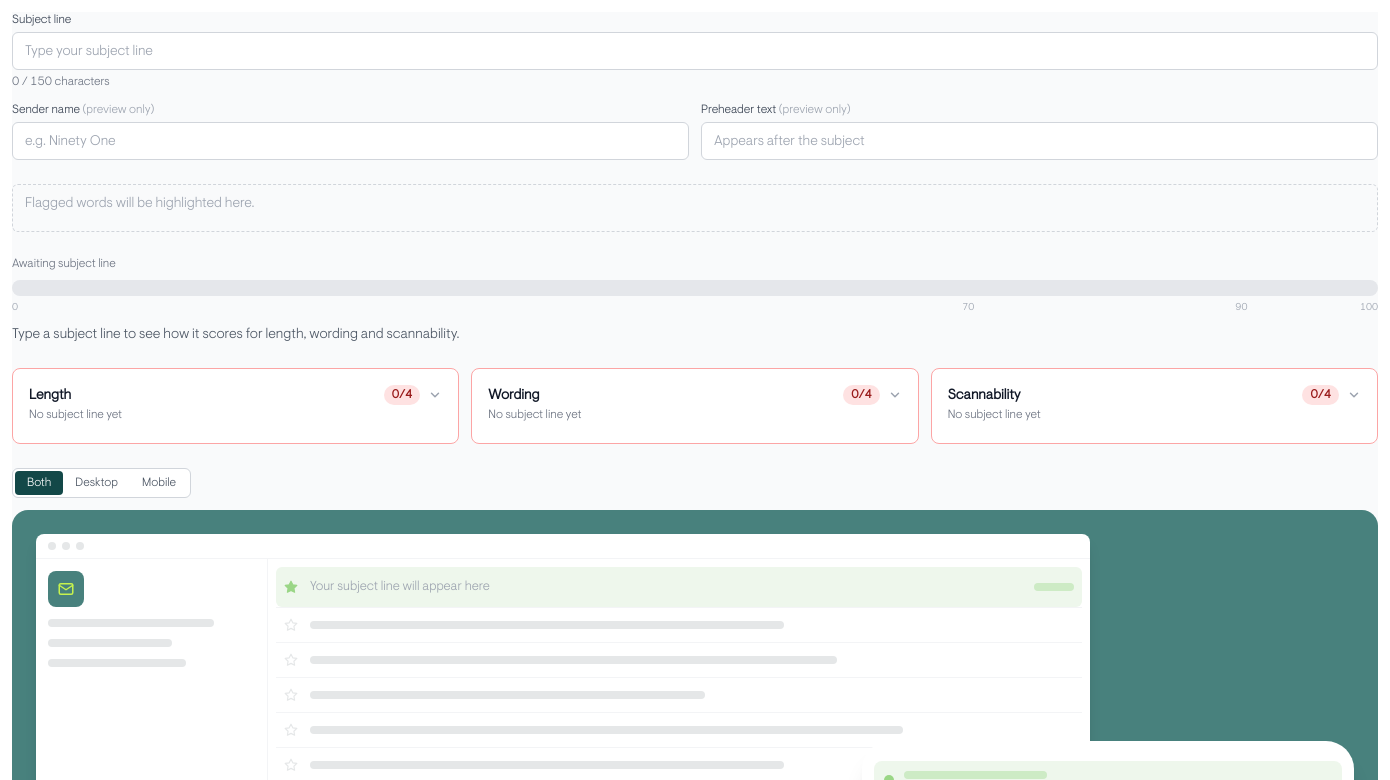
Test case: live scoring (AC-10, AC-11) › shows the score, the band label and a different band for a poor subject
Type "FREE MONEY!!! Act now" into the field labelled "Subject line". click: (695, 51)
box: 12,32 -> 1378,70
Wait 300 ms
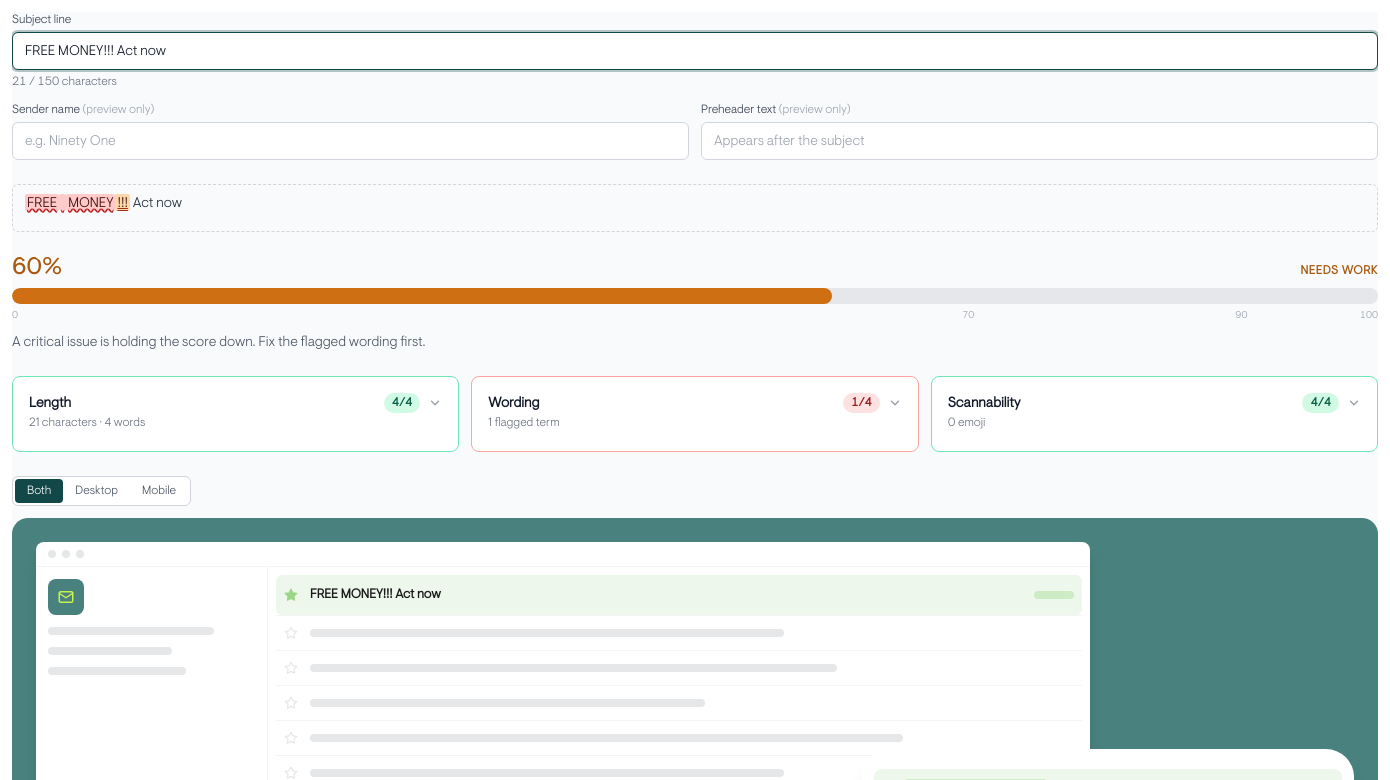
Expected: the text "60%" is shown, 12,256 -> 62,280
Expected: the text "Needs work" is shown, 1301,263 -> 1378,279
